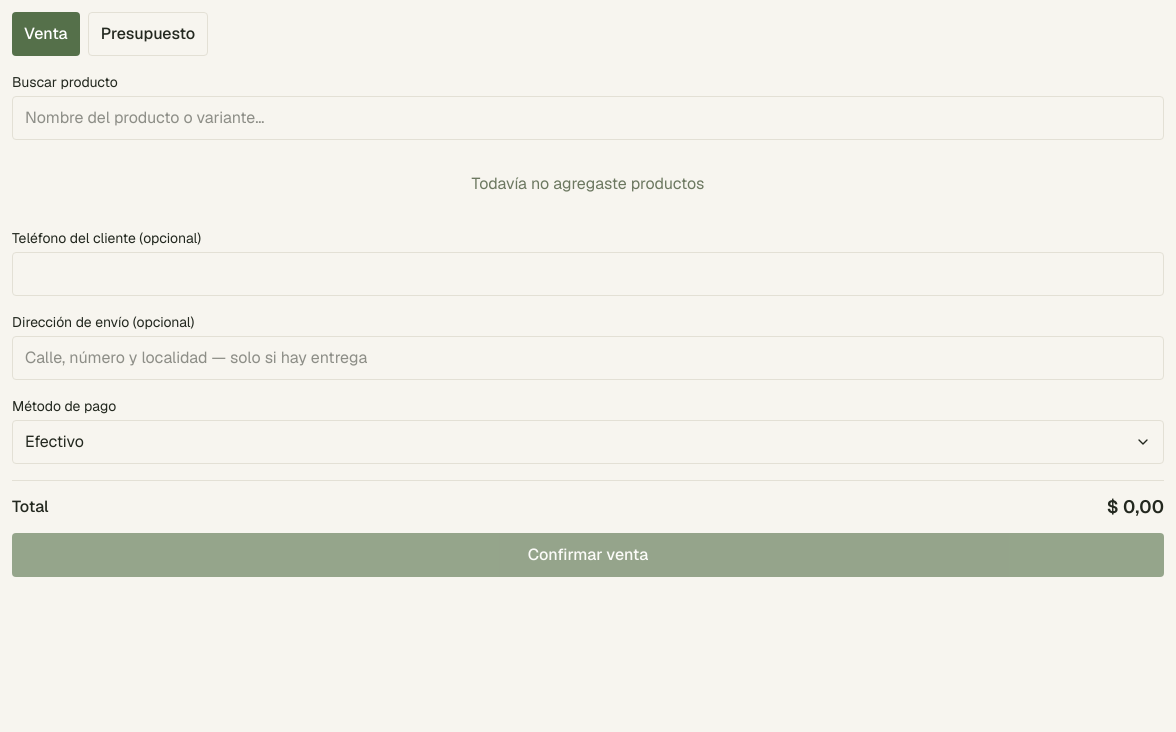
Test case: SaleCart › si createSale falla, muestra el error y no vacía el carrito
The image size is (1176, 732).
Type "milán" into the field labelled "Buscar producto".
click(588, 118); type("milán")  # box [12,96,1164,140]
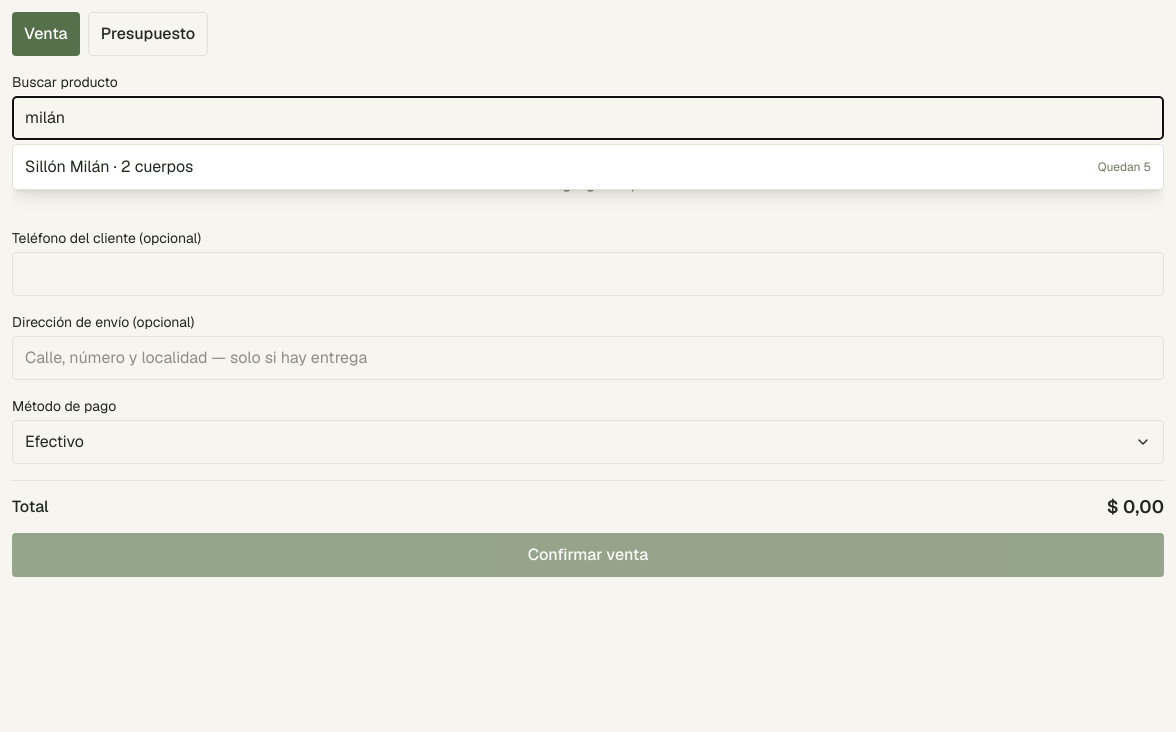
Click the button "Sillón Milán · 2 cuerpos Quedan 5".
click(67, 166)  # box [13,145,1163,189]
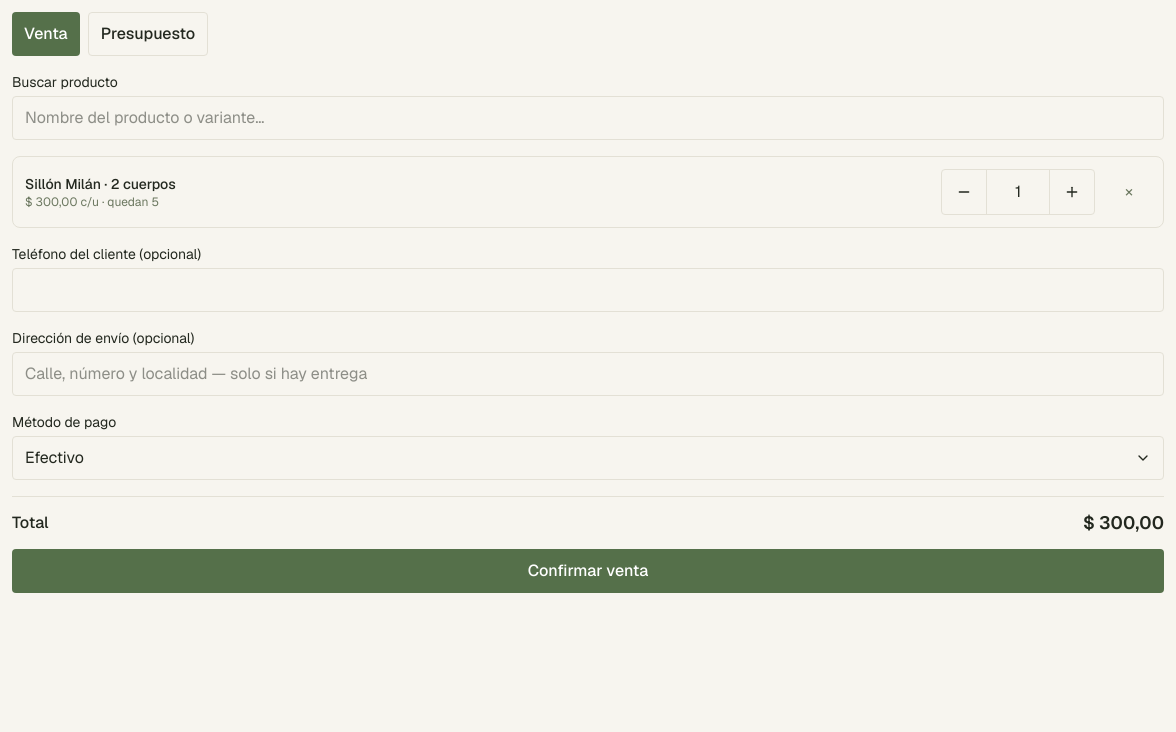
Click the button "Confirmar venta".
click(588, 571)  # box [12,549,1164,593]
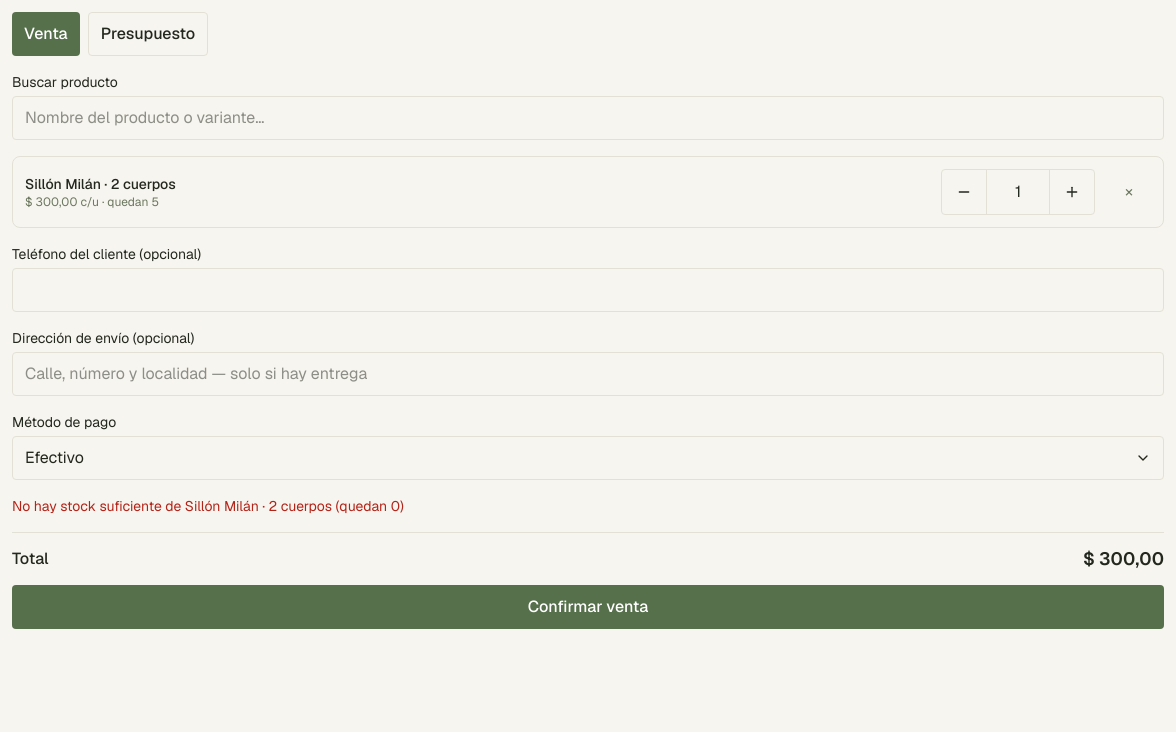
Now the field named "Cantidad (" is shown, box [986,170,1050,214]
Now the text "No hay stock suficiente" is shown, box [12,497,404,515]
